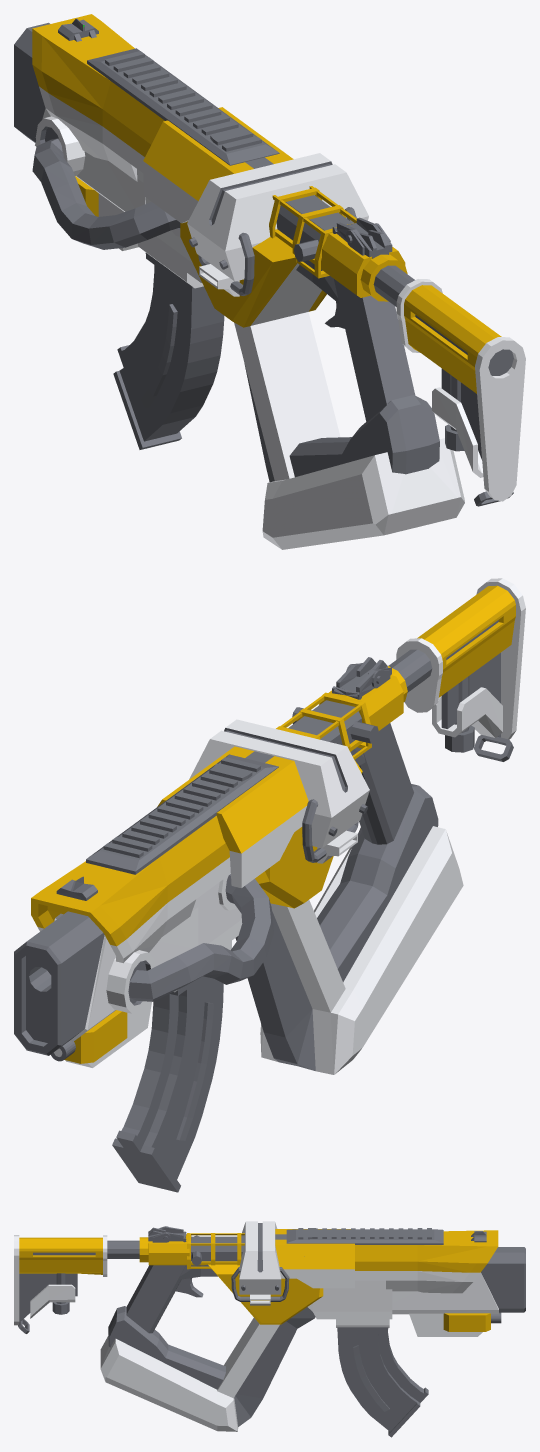
The model's file is pdg.dae.
3 views of the same model, one above another, from view 1: azimuth 30°, elevation 25°; view 2: azimuth 150°, elevation 25°; view 3: azimuth 270°, elevation 25° (orthographic). The views are drawn at different scales.
Parts seen in each view (by area): view 1: pdg2; view 2: pdg2; view 3: pdg2.
Part boxes in pixels (x1,y1,x2,y2): pdg2: [14, 14, 525, 549]; pdg2: [14, 578, 525, 1192]; pdg2: [14, 1221, 525, 1437].
Size of the model in its own units: 0.9957 by 4.88 by 2.13.
